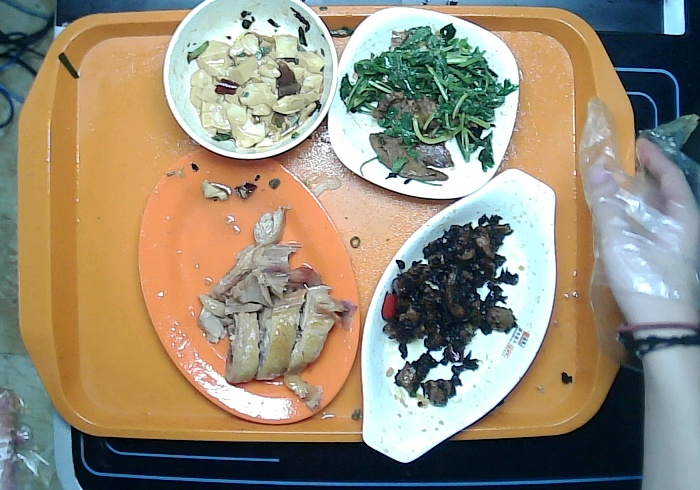NLDX-Bai_Se_Xiao_Fang_Die: (328, 4, 521, 199)
NLDX-Fan_Wan: (163, 1, 339, 159)
NLDX-Ju_Se_Pan: (138, 146, 360, 425)
NLDX-Yu_Pan: (360, 168, 556, 464)
